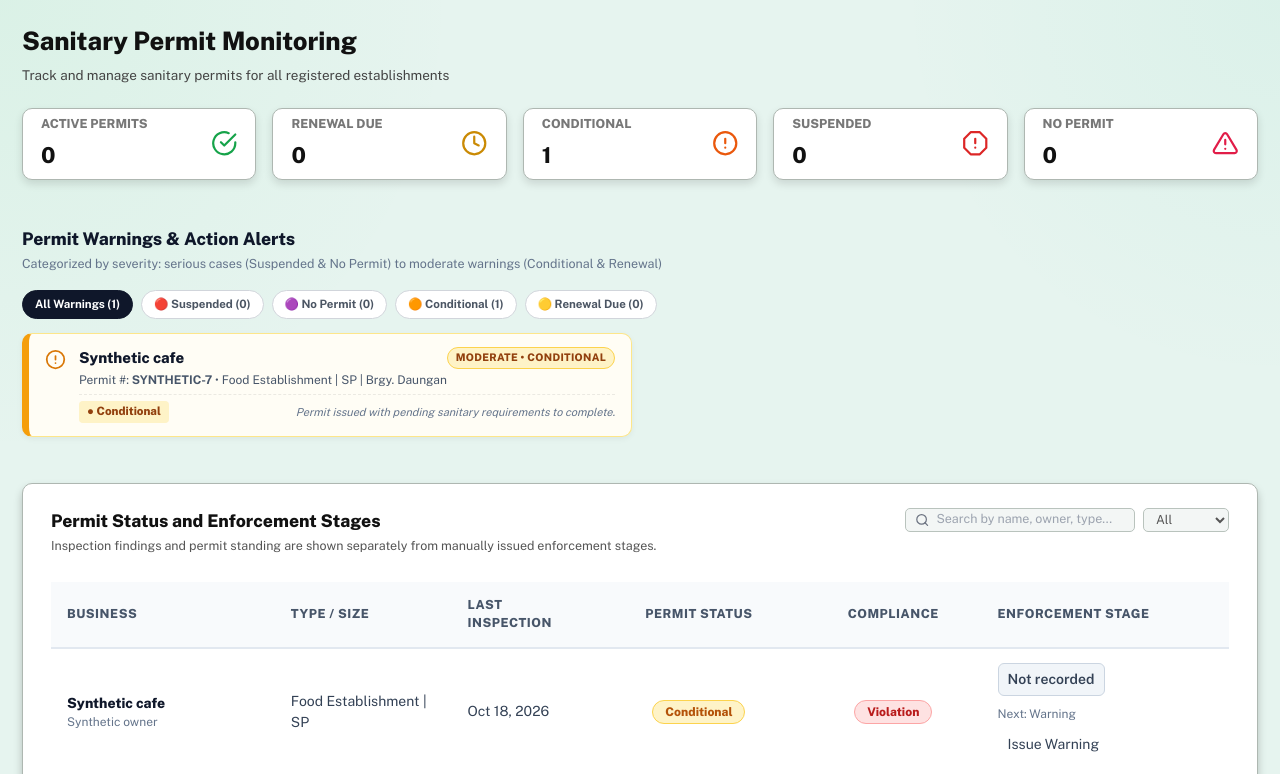
older records missing the field remain neutral and can explicitly issue Warning
This screenshot has width=1280, height=774.
Click the button "Issue Warning": (1053, 744) [998,728,1109,761]
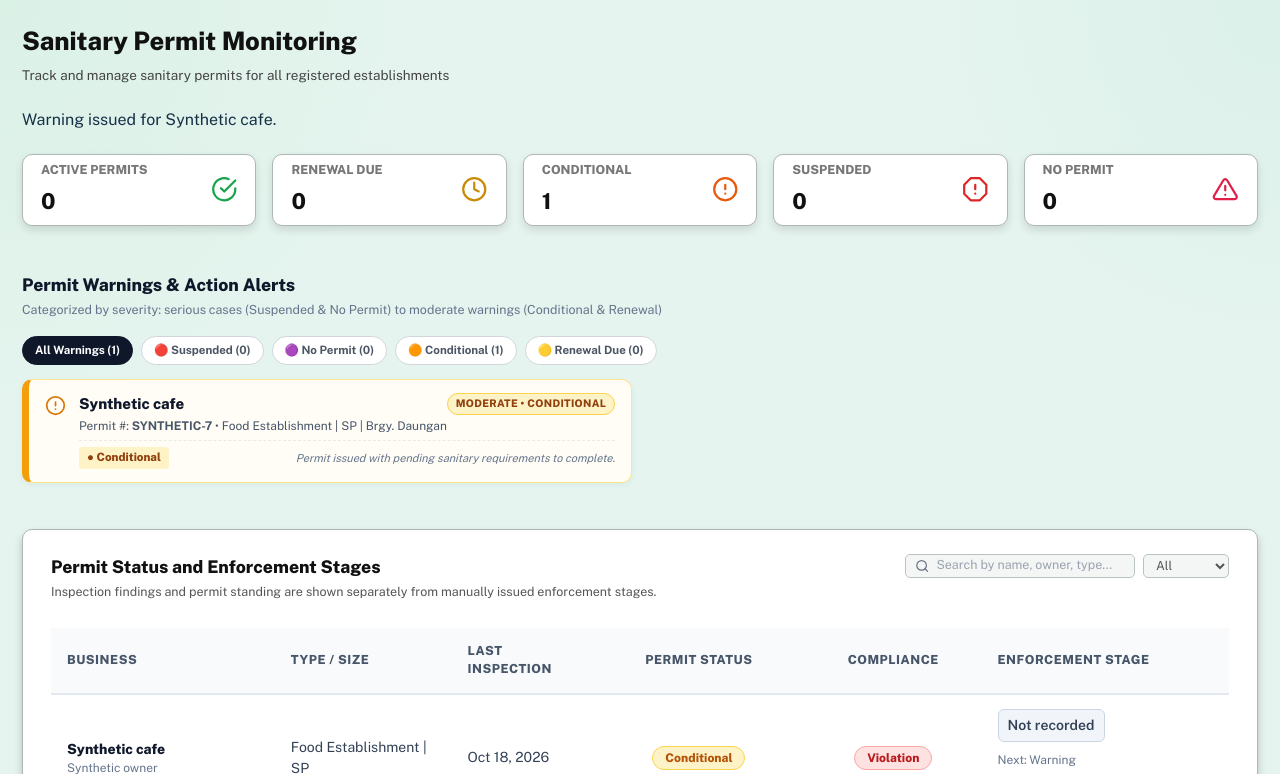
Check: the message "Warning issued for Synthetic cafe." is shown, box [22,110,276,128]
